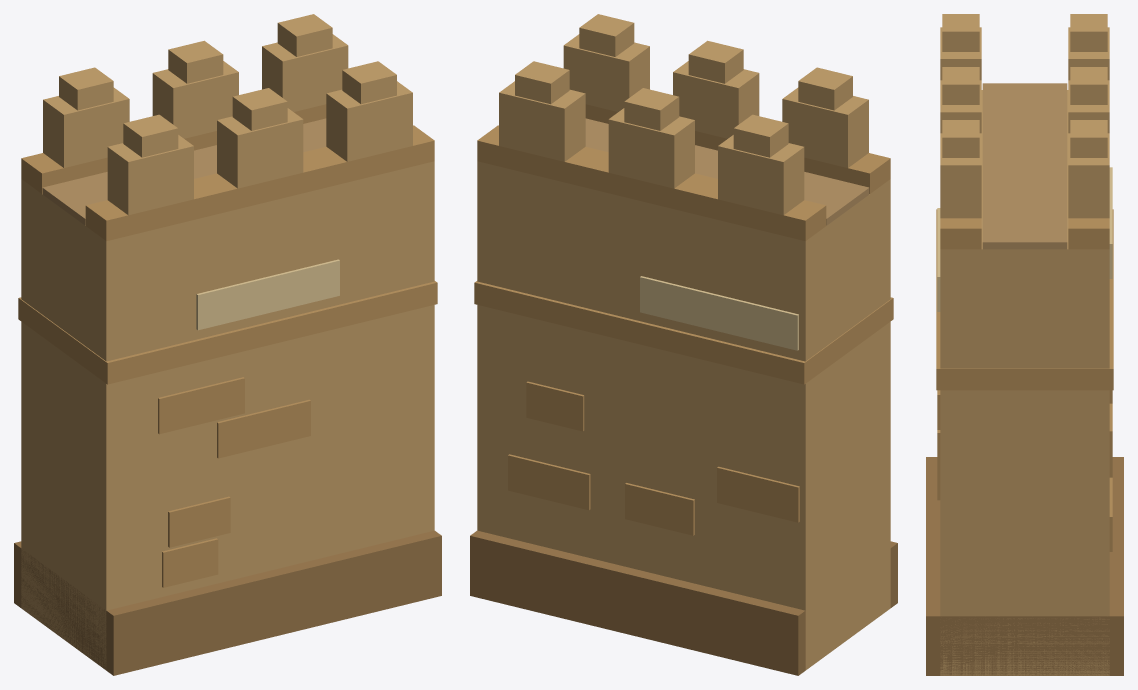
File: desert_wall.glb
The picture shows the model from 3 angles, left to right: view 1: azimuth 30°, elevation 25°; view 2: azimuth 150°, elevation 25°; view 3: azimuth 270°, elevation 25°; orthographic projection.
Parts seen in each view (by area): view 1: desert_wall; view 2: desert_wall; view 3: desert_wall.
Boxes of the visible parts, left/top/right/bottom form: desert_wall: left=14, top=14, right=441, bottom=675; desert_wall: left=470, top=14, right=897, bottom=675; desert_wall: left=926, top=14, right=1123, bottom=675.
Size of the model in its own units: 4.02 by 6.1 by 2.1.
